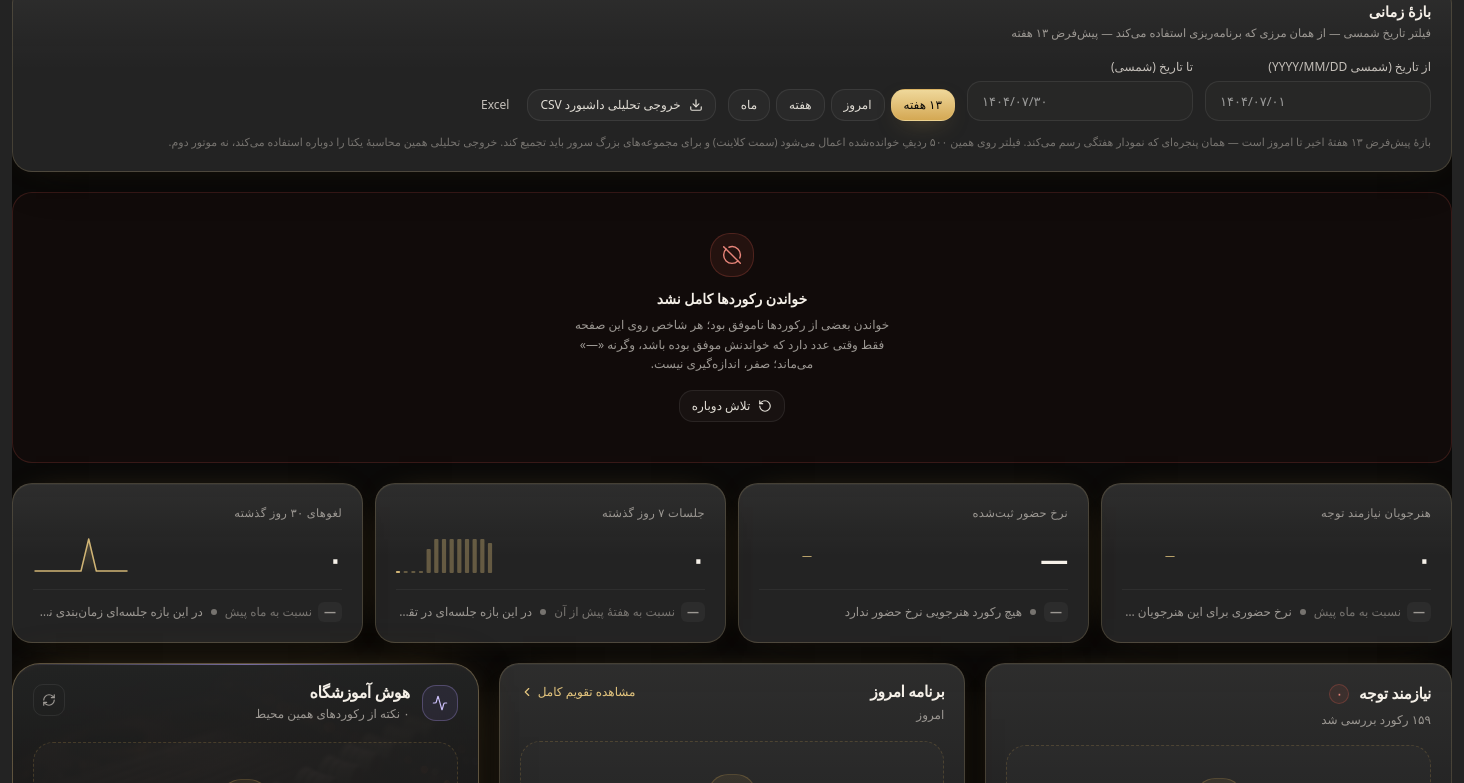
Scenario: the dashboard shows the disclosure the read set already computed › the alert's retry re-reads the set and the disclosure goes away
The width and height of the screenshot is (1464, 783).
(page scrolled)
Expected: the message is shown, [12,192,1452,462]
Click the button "تلاش دوباره".
click(732, 406)  # box [679,390,785,422]
(page scrolled)
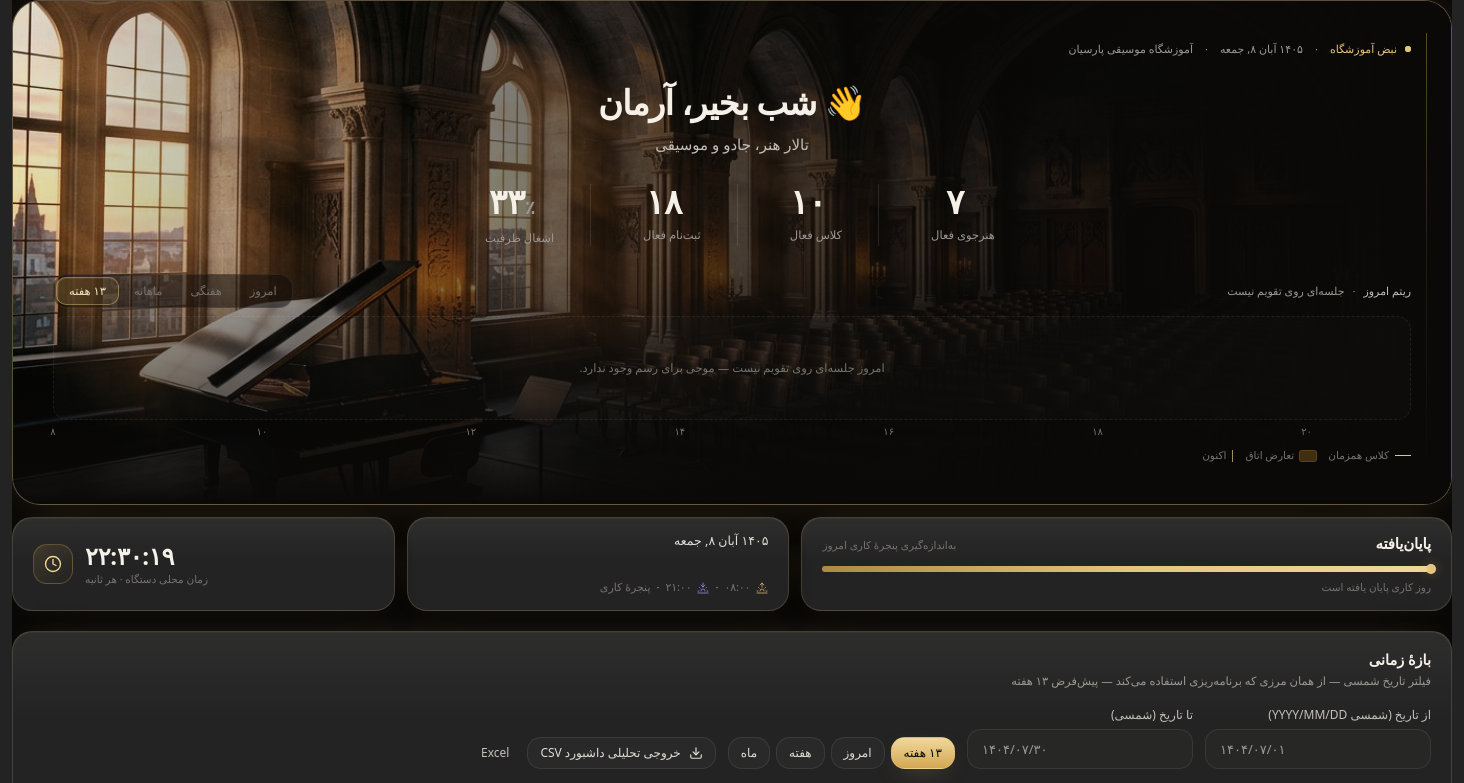
Result: the message "خواندن رکوردها کامل نشد خواندن بعضی از رکوردها ناموفق بود؛ هر شاخص روی این صفحه" is gone
Result: the list item "کلاس فعال" reads "۱۰ کلاس فعال" at [738,184,879,246]
Result: the text "کلاس فعال" no longer shows "—"
